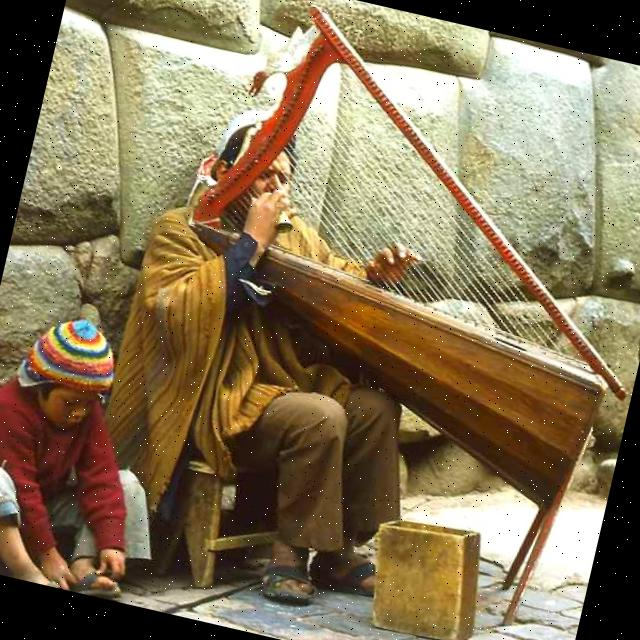harp: (137, 0, 640, 533)
